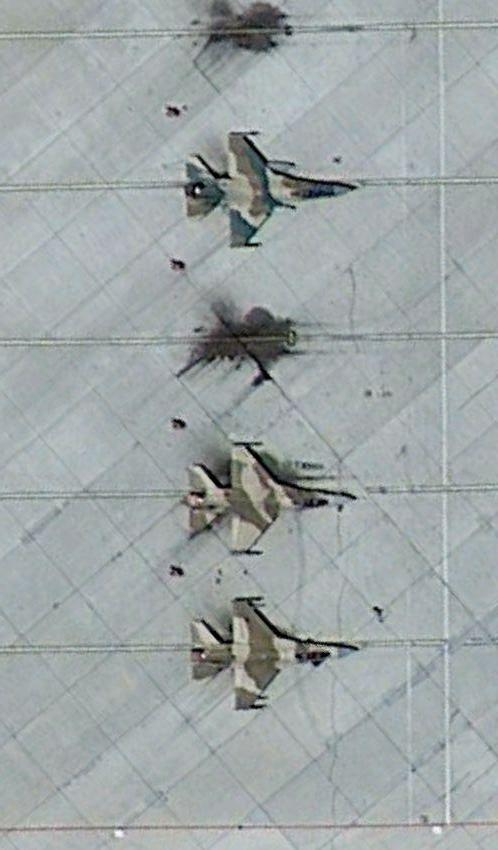F-16: (180, 128, 360, 252), (181, 440, 355, 560), (189, 595, 361, 710)
